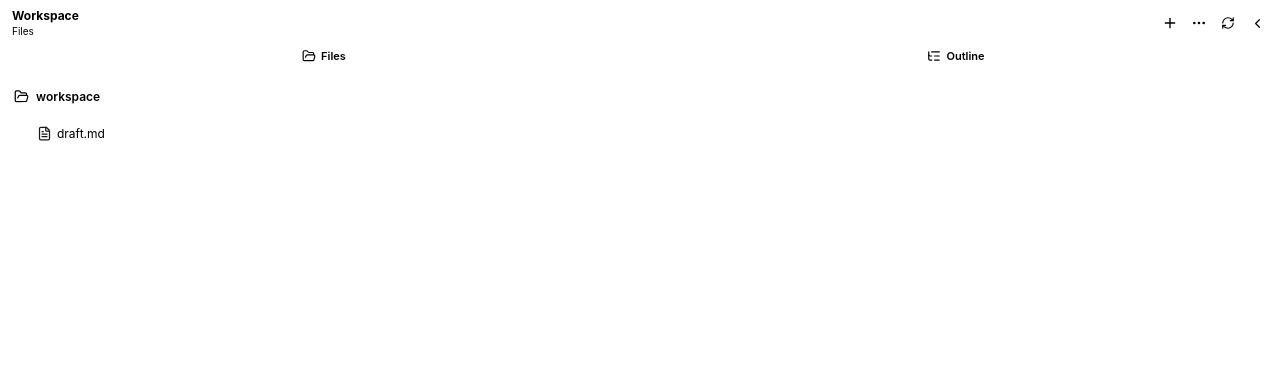
Test: FileSidebar native workspace interactions › renders pointer context menus in the viewport layer at the pointer position
The width and height of the screenshot is (1277, 387).
Right-click the list item "draft.md" at point(71, 133), box [37, 126, 105, 140]
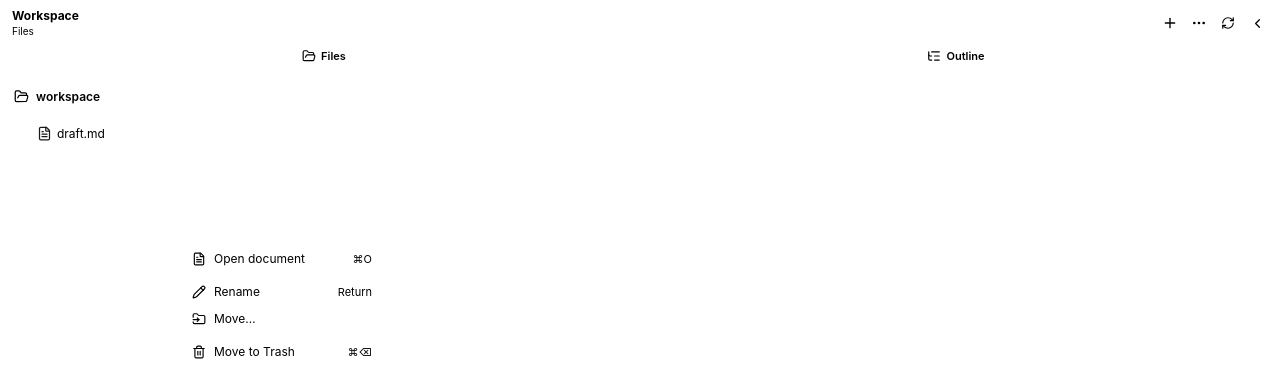
Now the menu with class "file-tree-context-menu" is shown, box [180, 240, 384, 370]
